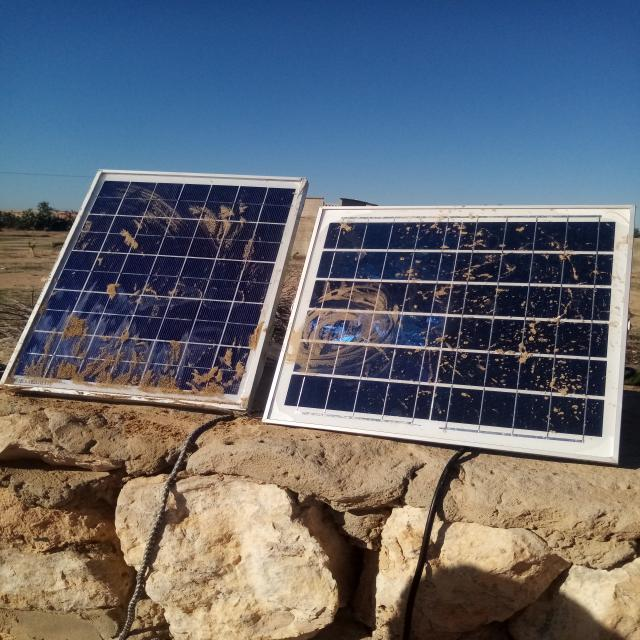faulty: (263, 208, 636, 465), (4, 169, 308, 411)
